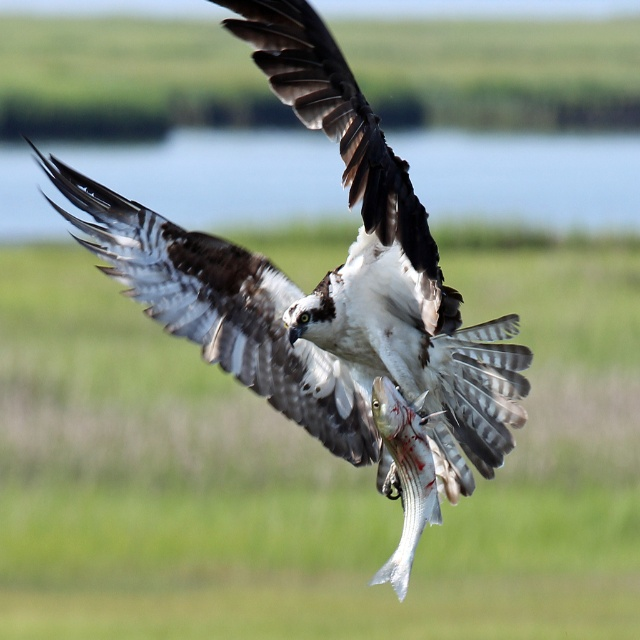Eagle: (23, 0, 533, 512)
